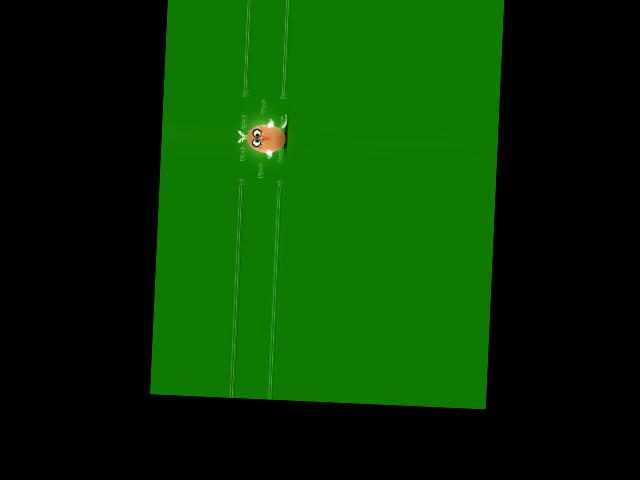egg: (246, 123, 287, 152)
